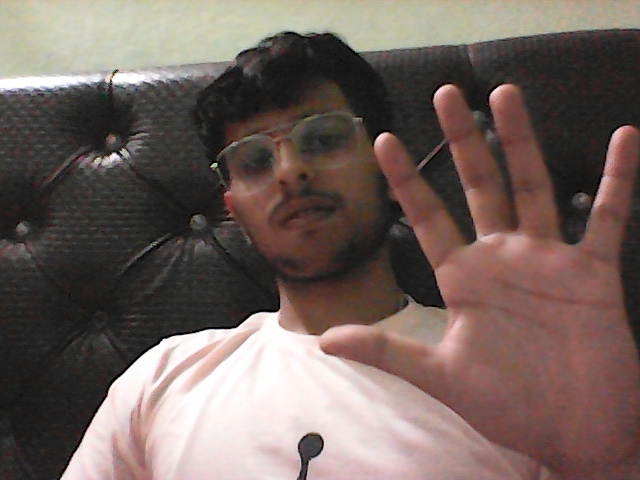hello: (301, 62, 640, 477)
